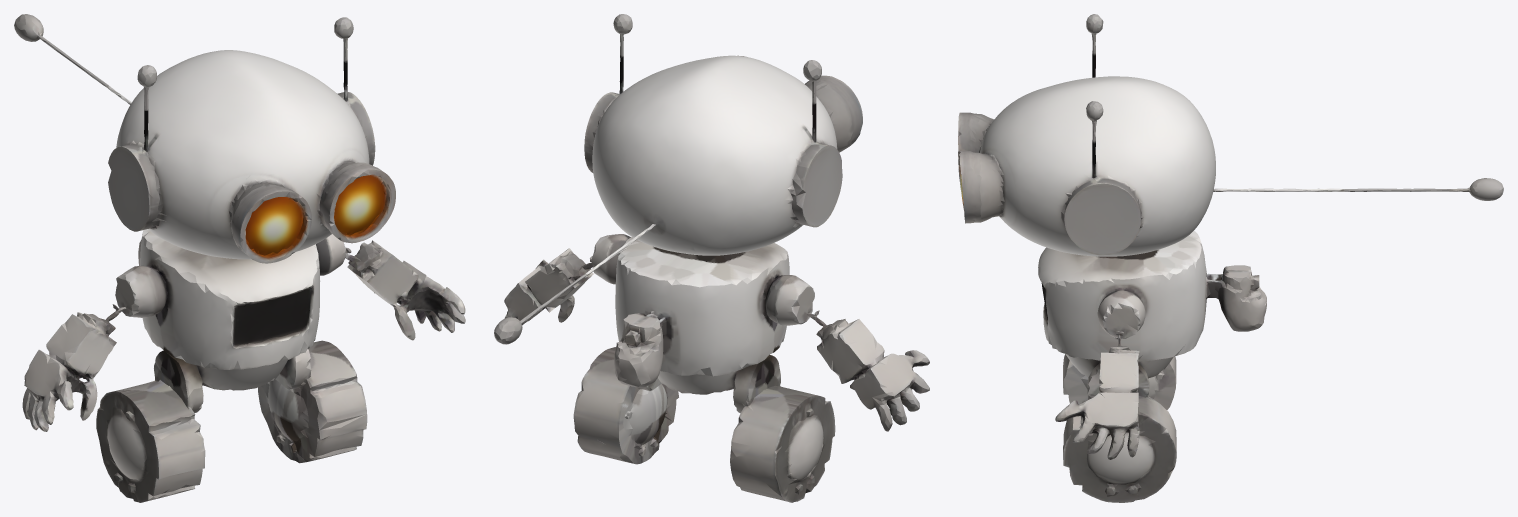
Rendered from worker_bot.glb.
The picture shows the model from 3 angles, left to right: view 1: azimuth 30°, elevation 25°; view 2: azimuth 150°, elevation 25°; view 3: azimuth 270°, elevation 25°; orthographic projection. The views are drawn at different scales.
Parts seen in each view (by area): view 1: Worker_Bot; view 2: Worker_Bot; view 3: Worker_Bot.
Part boxes in pixels (box(x1,y1,x2,y2)): Worker_Bot: box(14, 14, 465, 502); Worker_Bot: box(494, 14, 929, 502); Worker_Bot: box(958, 14, 1503, 502).
Size of the model in its own units: 1.5 by 1.52 by 1.88.
Materials: 1 (1 with a texture image).
